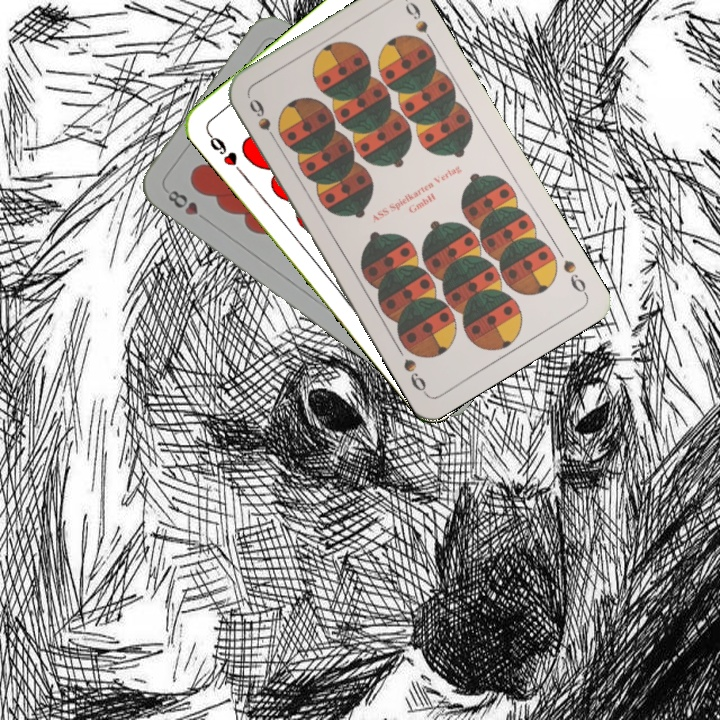H8: (163, 186, 201, 218)
H9: (203, 128, 245, 177)
S9: (245, 95, 281, 147), (559, 255, 590, 298)
